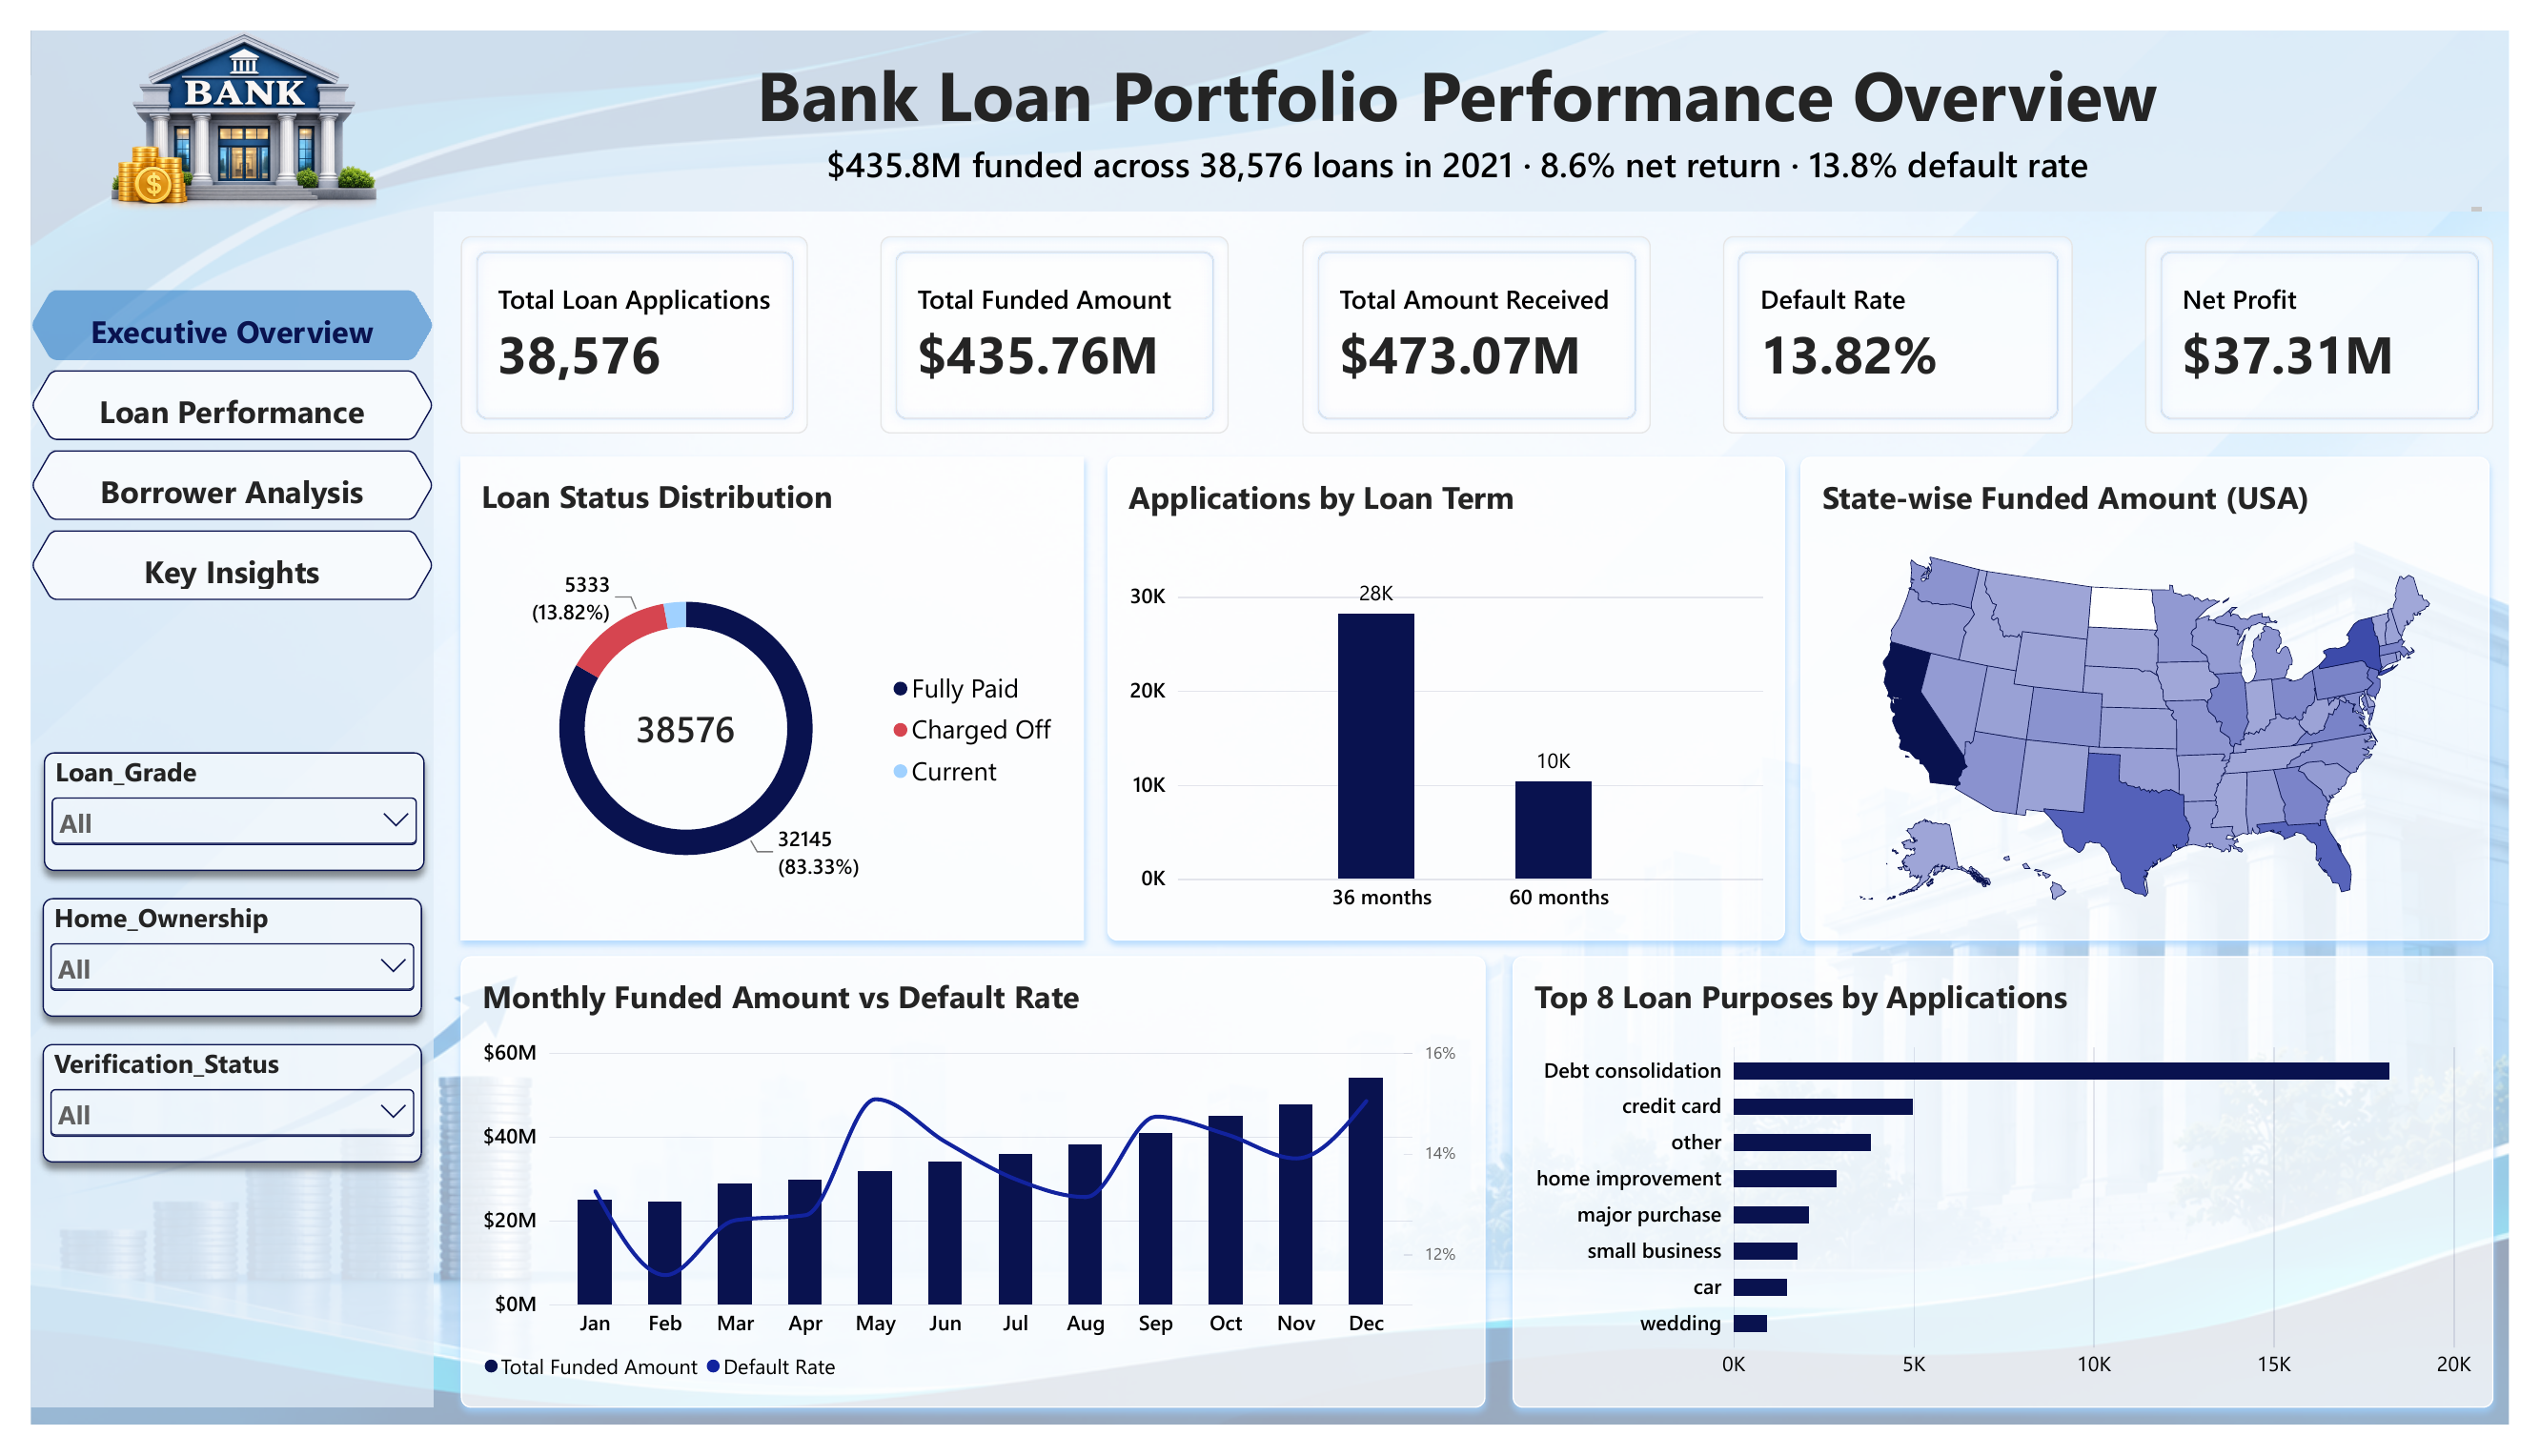

The dashboard page shown, as its layout file describes it:
{"tool":"powerbi","page":{"name":"Executive Overview","canvas":[1920,1080],"ordinal":0},"visuals":[{"type":"shape","box":[0,139.5,312.2,927.9],"z":0},{"type":"slicer","fields":{"Values":["Bank_Loan.Loan_Grade"]},"box":[9.7,558.6,294.8,92.4],"z":1000},{"type":"shape","box":[0,0,1920.4,139.5],"z":2000},{"type":"cardVisual","fields":{"Data":["Bank_Loan.Total Loan Applications"]},"box":[333.1,158.7,268.6,153.5],"z":3000},{"type":"pageNavigator","box":[0,200.6,312.2,240.7],"z":4000},{"type":"donutChart","title":"Loan Status Distribution","fields":{"Category":["Bank_Loan.Loan_Status"],"Y":["Count(Bank_Loan.Loan_ID)"]},"box":[333.1,329.7,483.1,375],"z":5000},{"type":"lineClusteredColumnComboChart","title":"Monthly Funded Amount vs Default Rate","fields":{"Category":["Bank_Loan.Month Short"],"Y":["Bank_Loan.Total Funded Amount"],"Y2":["Bank_Loan.Default Rate"]},"box":[333.1,716.9,793.6,350.6],"z":6000},{"type":"clusteredBarChart","title":"Top 8 Loan Purposes by Applications","fields":{"Category":["Bank_Loan.Purpose"],"Y":["Count(Bank_Loan.Loan_ID)"]},"box":[1147.7,716.9,760.5,350.6],"z":7000},{"type":"clusteredColumnChart","title":"Applications by Loan Term","fields":{"Category":["Bank_Loan.Loan_Term"],"Y":["CountNonNull(Bank_Loan.Total_Accounts)"]},"box":[833.7,329.7,525,375],"z":8000},{"type":"image","box":[26.2,0,277.3,139.5],"z":11000},{"type":"textbox","title":"Bank Loan Portfolio Performance Overview","box":[312.2,12.2,1587.2,127.3],"z":12000},{"type":"shapeMap","title":"State-wise Funded Amount (USA)","fields":{"Category":["Bank_Loan.State"],"Value":["Bank_Loan.Total Funded Amount"]},"box":[1370.9,329.7,533.7,375],"z":13000},{"type":"cardVisual","fields":{"Data":["Bank_Loan.Total Funded Amount"]},"box":[658,158.7,270.3,153.5],"z":14000},{"type":"cardVisual","fields":{"Data":["Bank_Loan.Total Amount Received"]},"box":[984.6,158.7,270.3,153.5],"z":15000},{"type":"cardVisual","fields":{"Data":["Bank_Loan.Net Profit"]},"box":[1637.8,158.7,270.3,153.5],"z":16000},{"type":"cardVisual","fields":{"Data":["Bank_Loan.Default Rate"]},"box":[1311.2,158.7,270.3,153.5],"z":17000},{"type":"slicer","fields":{"Values":["Bank_Loan.Home_Ownership"]},"box":[8.7,671.5,294.8,92.4],"z":17001},{"type":"slicer","fields":{"Values":["Bank_Loan.Verification_Status"]},"box":[8.7,784.9,294.8,92.4],"z":17002}]}

Visuals, with their boxes in screenshot pixels (x1, y1, x2, y2), scaled from the page's 1920x1080 canvas onto the 2540x1456 screenshot:
shape: x1=0, y1=188, x2=413, y2=1439
slicer - Bank_Loan.Loan_Grade: x1=12, y1=753, x2=403, y2=878
shape: x1=0, y1=0, x2=2539, y2=188
cardVisual - Bank_Loan.Total Loan Applications: x1=440, y1=214, x2=796, y2=421
pageNavigator: x1=0, y1=271, x2=413, y2=595
"Loan Status Distribution" donutChart: x1=440, y1=444, x2=1080, y2=950
"Monthly Funded Amount vs Default Rate" lineClusteredColumnComboChart: x1=440, y1=966, x2=1491, y2=1439
"Top 8 Loan Purposes by Applications" clusteredBarChart: x1=1518, y1=966, x2=2525, y2=1439
"Applications by Loan Term" clusteredColumnChart: x1=1103, y1=444, x2=1798, y2=950
image: x1=34, y1=0, x2=401, y2=188
"Bank Loan Portfolio Performance Overview" textbox: x1=413, y1=16, x2=2512, y2=188
"State-wise Funded Amount (USA)" shapeMap: x1=1814, y1=444, x2=2520, y2=950
cardVisual - Bank_Loan.Total Funded Amount: x1=870, y1=214, x2=1228, y2=421
cardVisual - Bank_Loan.Total Amount Received: x1=1303, y1=214, x2=1660, y2=421
cardVisual - Bank_Loan.Net Profit: x1=2166, y1=214, x2=2524, y2=421
cardVisual - Bank_Loan.Default Rate: x1=1735, y1=214, x2=2092, y2=421
slicer - Bank_Loan.Home_Ownership: x1=11, y1=905, x2=401, y2=1030
slicer - Bank_Loan.Verification_Status: x1=11, y1=1058, x2=401, y2=1183
